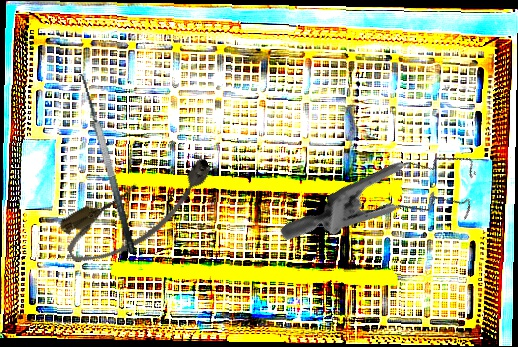Cannula: (53, 147, 227, 275)
Spatula Surgical: (67, 71, 137, 258)
Speculum: (277, 95, 500, 321)
